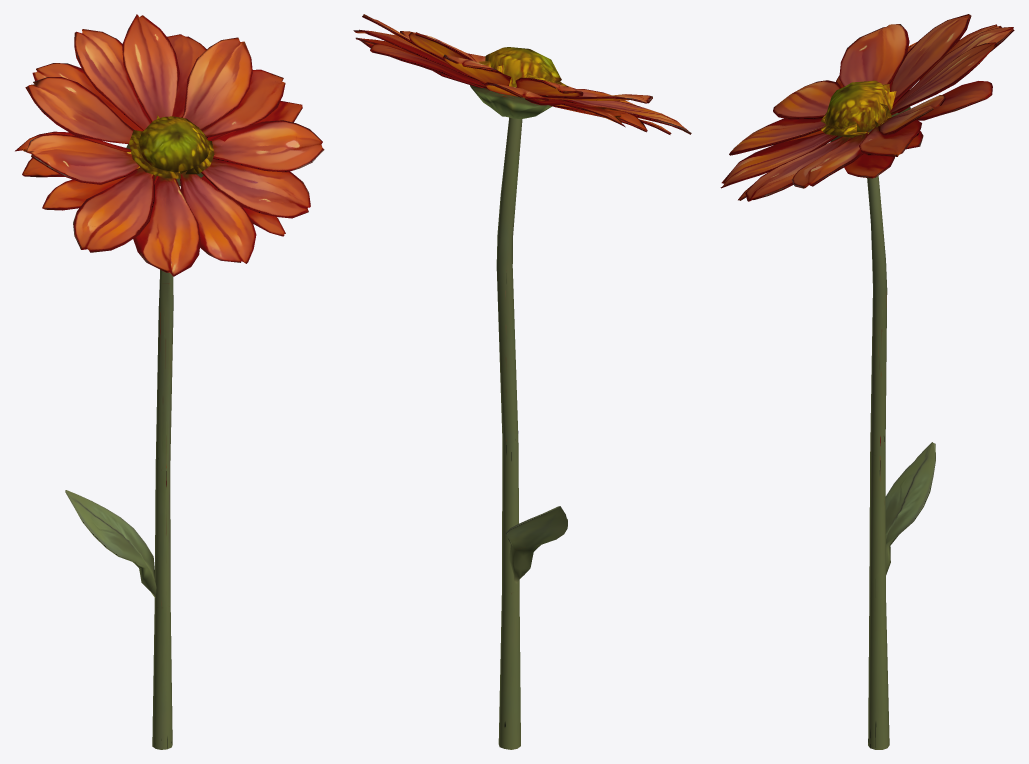
The model's file is Red_flower.glb.
3 renders of one model, left to right at view 1: azimuth 30°, elevation 25°; view 2: azimuth 150°, elevation 25°; view 3: azimuth 270°, elevation 25°, orthographic. The views are drawn at different scales.
Visible parts, largest first — view 1: geometry_0; view 2: geometry_0; view 3: geometry_0.
Part boxes in pixels (x1=…): geometry_0: x1=15, y1=14, x2=324, y2=749; geometry_0: x1=353, y1=14, x2=691, y2=749; geometry_0: x1=720, y1=14, x2=1014, y2=749.
Bounding box in the file's own units: 0.3965 × 0.9521 × 0.353.
Materials: 1 (1 with a texture image).
